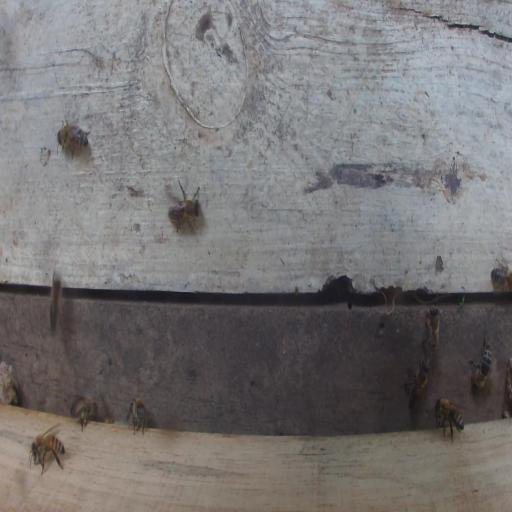nonpollenbee: (29, 419, 66, 477), (168, 176, 202, 235), (400, 355, 432, 410), (55, 117, 91, 161), (432, 397, 465, 444), (469, 330, 493, 391), (69, 392, 99, 432), (420, 302, 440, 359), (489, 251, 511, 299), (49, 268, 63, 336), (124, 396, 146, 436)
